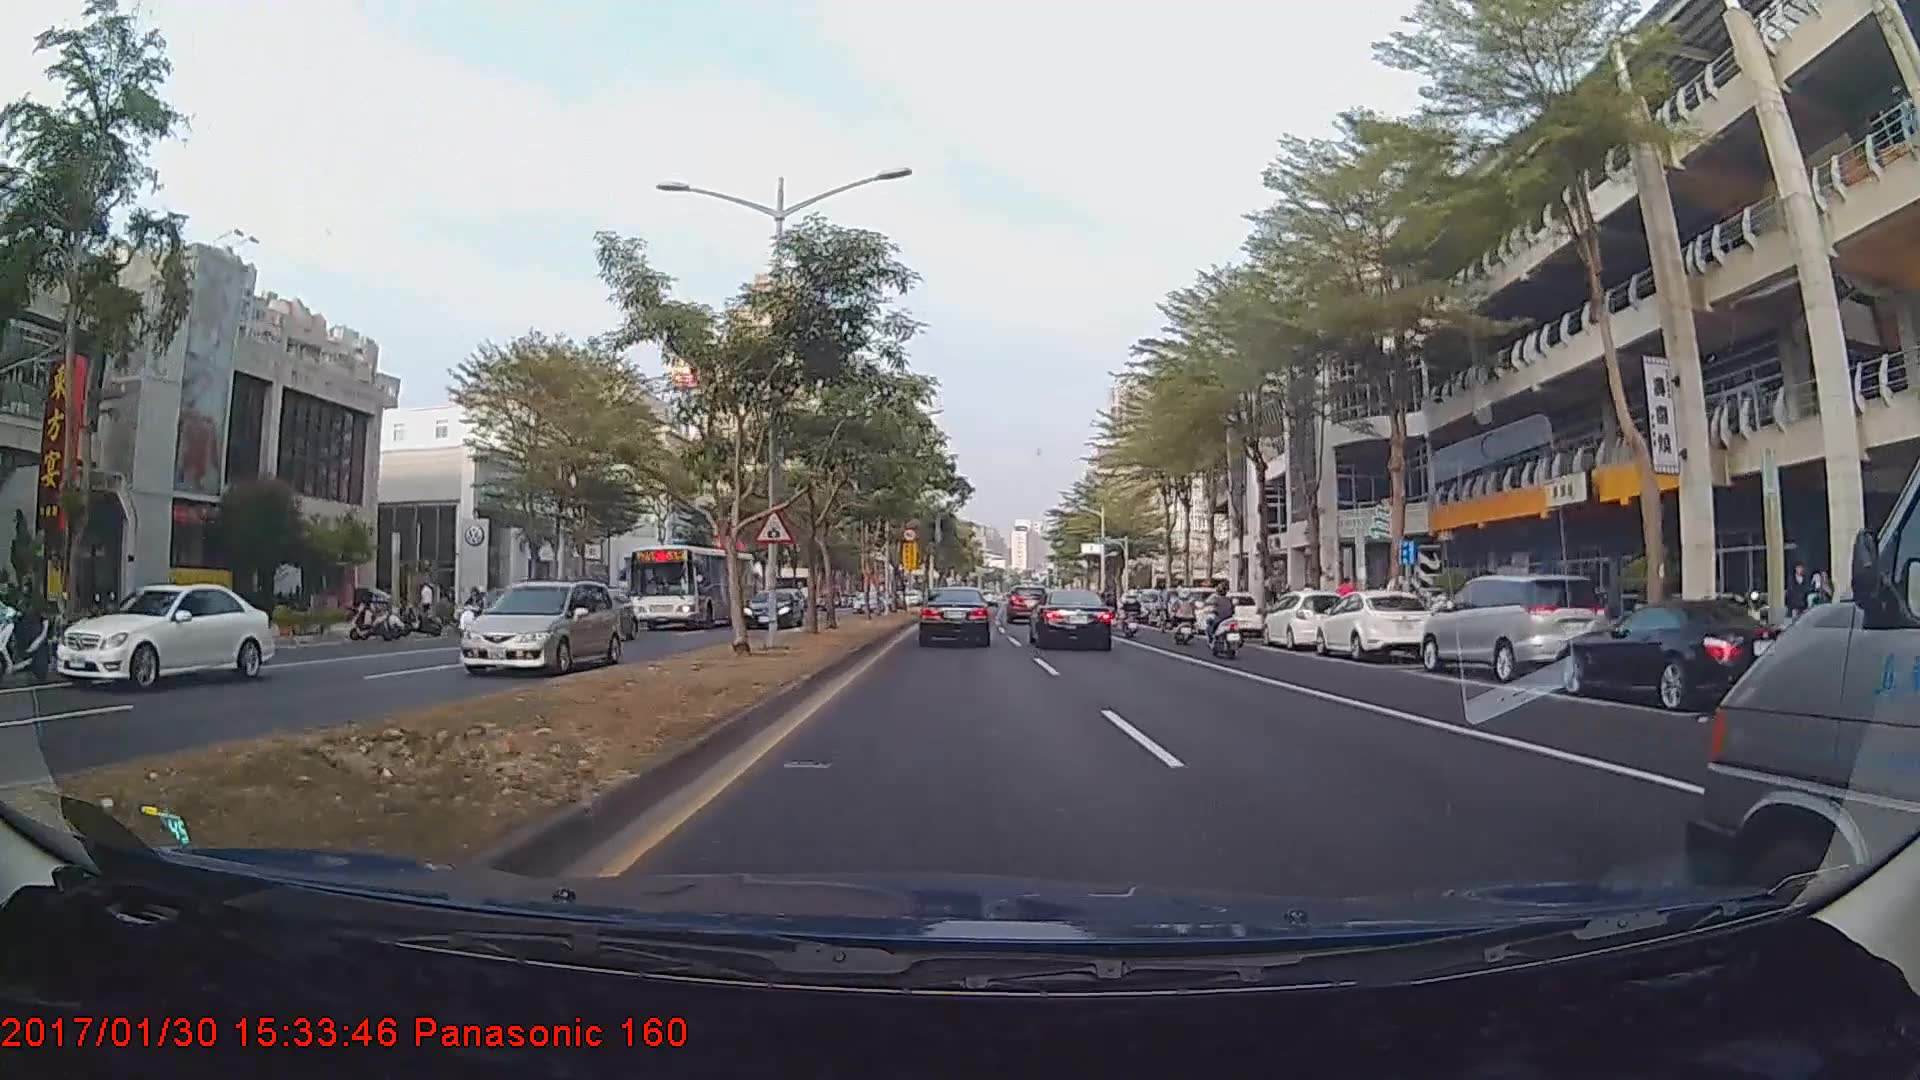rider: (1, 578, 58, 683), (1203, 582, 1251, 660), (1159, 590, 1207, 646), (1118, 586, 1145, 638)
vehicle: (1697, 464, 1902, 895), (1555, 601, 1809, 714), (53, 580, 275, 691), (1419, 570, 1611, 685), (455, 575, 621, 676), (627, 541, 756, 628), (1313, 589, 1433, 660), (1257, 588, 1350, 650), (1030, 587, 1115, 652), (919, 586, 993, 648), (1194, 591, 1261, 635), (740, 587, 804, 628), (1005, 586, 1046, 625)
